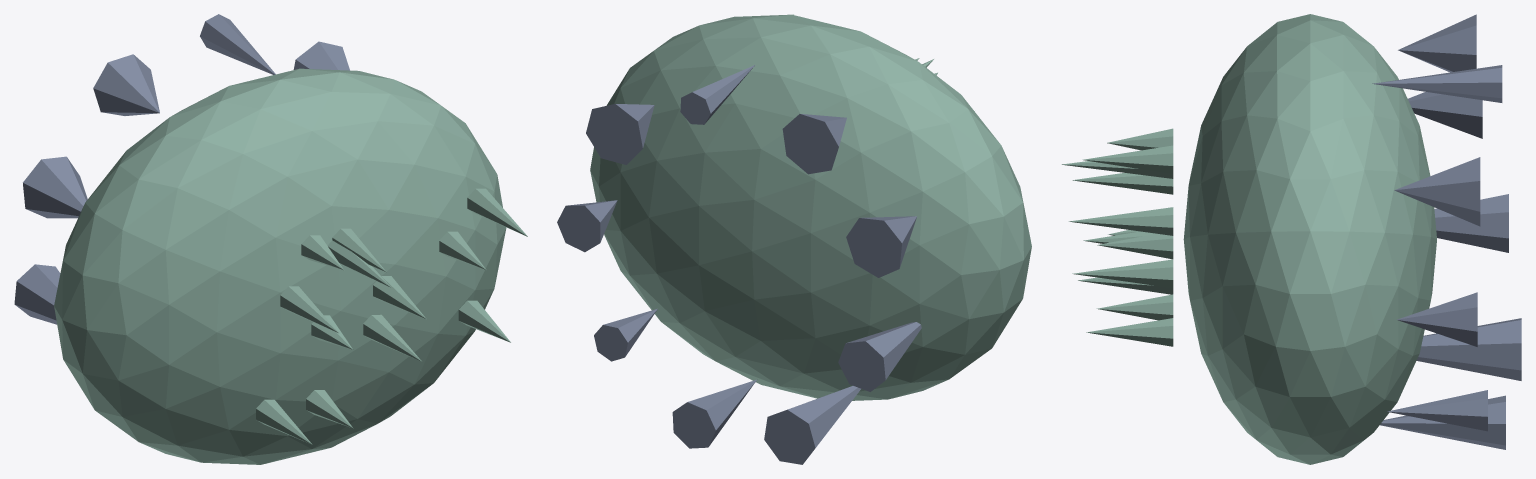
Rendered from 07_Floating_Island_Mossy.glb.
3 views of the same model, side by side, from view 1: azimuth 30°, elevation 25°; view 2: azimuth 150°, elevation 25°; view 3: azimuth 270°, elevation 25° (orthographic). The views are drawn at different scales.
Visible parts, largest first — view 1: 07_Floating_Island_Mossy_00, 07_Floating_Island_Mossy_05, 07_Floating_Island_Mossy_04, 07_Floating_Island_Mossy_06, 07_Floating_Island_Mossy_03, 07_Floating_Island_Mossy_02, 07_Floating_Island_Mossy_20, 07_Floating_Island_Mossy_10, 07_Floating_Island_Mossy_13, 07_Floating_Island_Mossy_12, 07_Floating_Island_Mossy_18, 07_Floating_Island_Mossy_14 (+6 smaller); view 2: 07_Floating_Island_Mossy_00, 07_Floating_Island_Mossy_07, 07_Floating_Island_Mossy_06, 07_Floating_Island_Mossy_05, 07_Floating_Island_Mossy_02, 07_Floating_Island_Mossy_04, 07_Floating_Island_Mossy_08, 07_Floating_Island_Mossy_01, 07_Floating_Island_Mossy_03, 07_Floating_Island_Mossy_09; view 3: 07_Floating_Island_Mossy_00, 07_Floating_Island_Mossy_07, 07_Floating_Island_Mossy_02, 07_Floating_Island_Mossy_06, 07_Floating_Island_Mossy_04, 07_Floating_Island_Mossy_03, 07_Floating_Island_Mossy_08, 07_Floating_Island_Mossy_01, 07_Floating_Island_Mossy_05, 07_Floating_Island_Mossy_09, 07_Floating_Island_Mossy_20, 07_Floating_Island_Mossy_13 (+8 smaller).
Boxes of the visible parts, box(x1,y1,x2,y2) form: 07_Floating_Island_Mossy_00: box(54, 68, 506, 464); 07_Floating_Island_Mossy_05: box(23, 156, 87, 218); 07_Floating_Island_Mossy_04: box(93, 54, 159, 115); 07_Floating_Island_Mossy_06: box(14, 264, 60, 324); 07_Floating_Island_Mossy_03: box(200, 14, 275, 74); 07_Floating_Island_Mossy_02: box(293, 41, 349, 70); 07_Floating_Island_Mossy_20: box(467, 188, 527, 236); 07_Floating_Island_Mossy_10: box(280, 286, 339, 333); 07_Floating_Island_Mossy_13: box(363, 314, 421, 361); 07_Floating_Island_Mossy_12: box(256, 399, 312, 444); 07_Floating_Island_Mossy_18: box(458, 300, 510, 342); 07_Floating_Island_Mossy_14: box(373, 276, 426, 319); 07_Floating_Island_Mossy_00: box(590, 14, 1031, 400); 07_Floating_Island_Mossy_07: box(764, 386, 860, 464); 07_Floating_Island_Mossy_06: box(838, 322, 921, 391); 07_Floating_Island_Mossy_05: box(846, 216, 916, 277); 07_Floating_Island_Mossy_02: box(586, 104, 654, 164); 07_Floating_Island_Mossy_04: box(782, 114, 846, 174); 07_Floating_Island_Mossy_08: box(672, 379, 756, 448); 07_Floating_Island_Mossy_01: box(557, 200, 617, 252); 07_Floating_Island_Mossy_03: box(680, 65, 754, 124); 07_Floating_Island_Mossy_09: box(594, 308, 657, 361); 07_Floating_Island_Mossy_00: box(1183, 14, 1436, 464); 07_Floating_Island_Mossy_07: box(1416, 318, 1521, 380); 07_Floating_Island_Mossy_02: box(1394, 157, 1480, 226); 07_Floating_Island_Mossy_06: box(1434, 194, 1508, 252); 07_Floating_Island_Mossy_04: box(1398, 14, 1476, 72); 07_Floating_Island_Mossy_03: box(1372, 65, 1502, 102); 07_Floating_Island_Mossy_08: box(1380, 395, 1505, 449); 07_Floating_Island_Mossy_01: box(1397, 292, 1477, 346); 07_Floating_Island_Mossy_05: box(1408, 92, 1482, 138); 07_Floating_Island_Mossy_09: box(1387, 390, 1487, 431); 07_Floating_Island_Mossy_20: box(1068, 207, 1173, 235); 07_Floating_Island_Mossy_13: box(1072, 259, 1173, 287).
Bounding box in the file's own units: 10 × 8.2 × 8.73.
